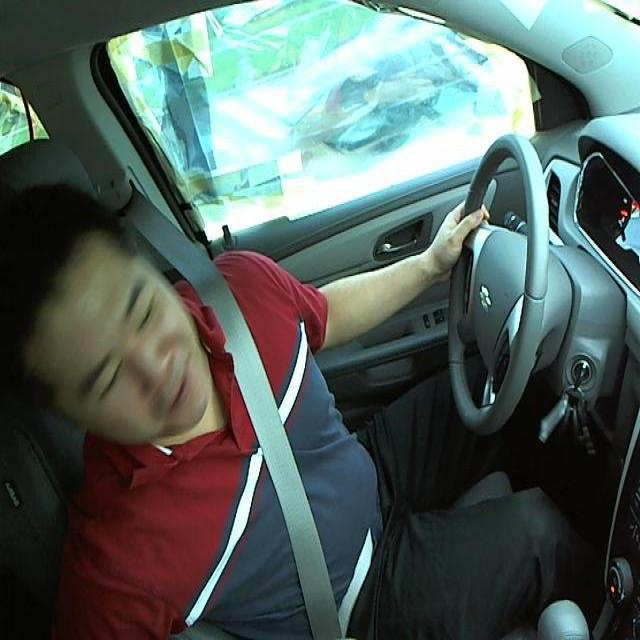seatbelt: (187, 279, 366, 633)
